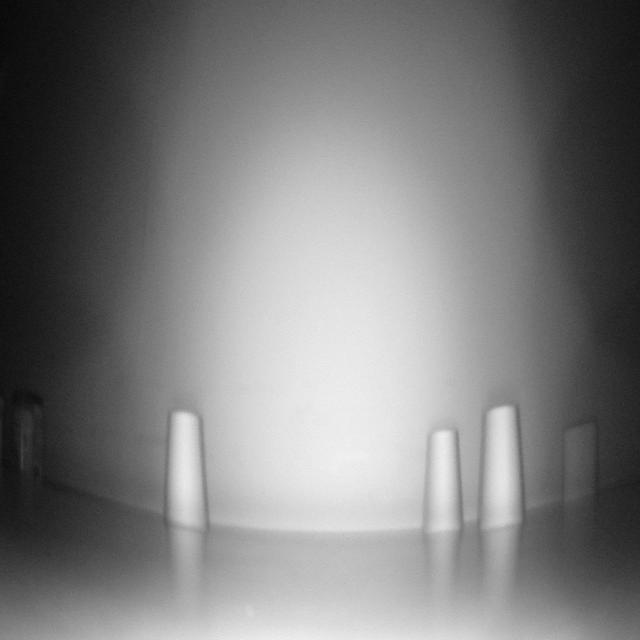targets: (475, 399, 527, 537), (165, 408, 211, 531), (425, 425, 465, 536), (6, 384, 44, 485), (560, 415, 599, 506)
